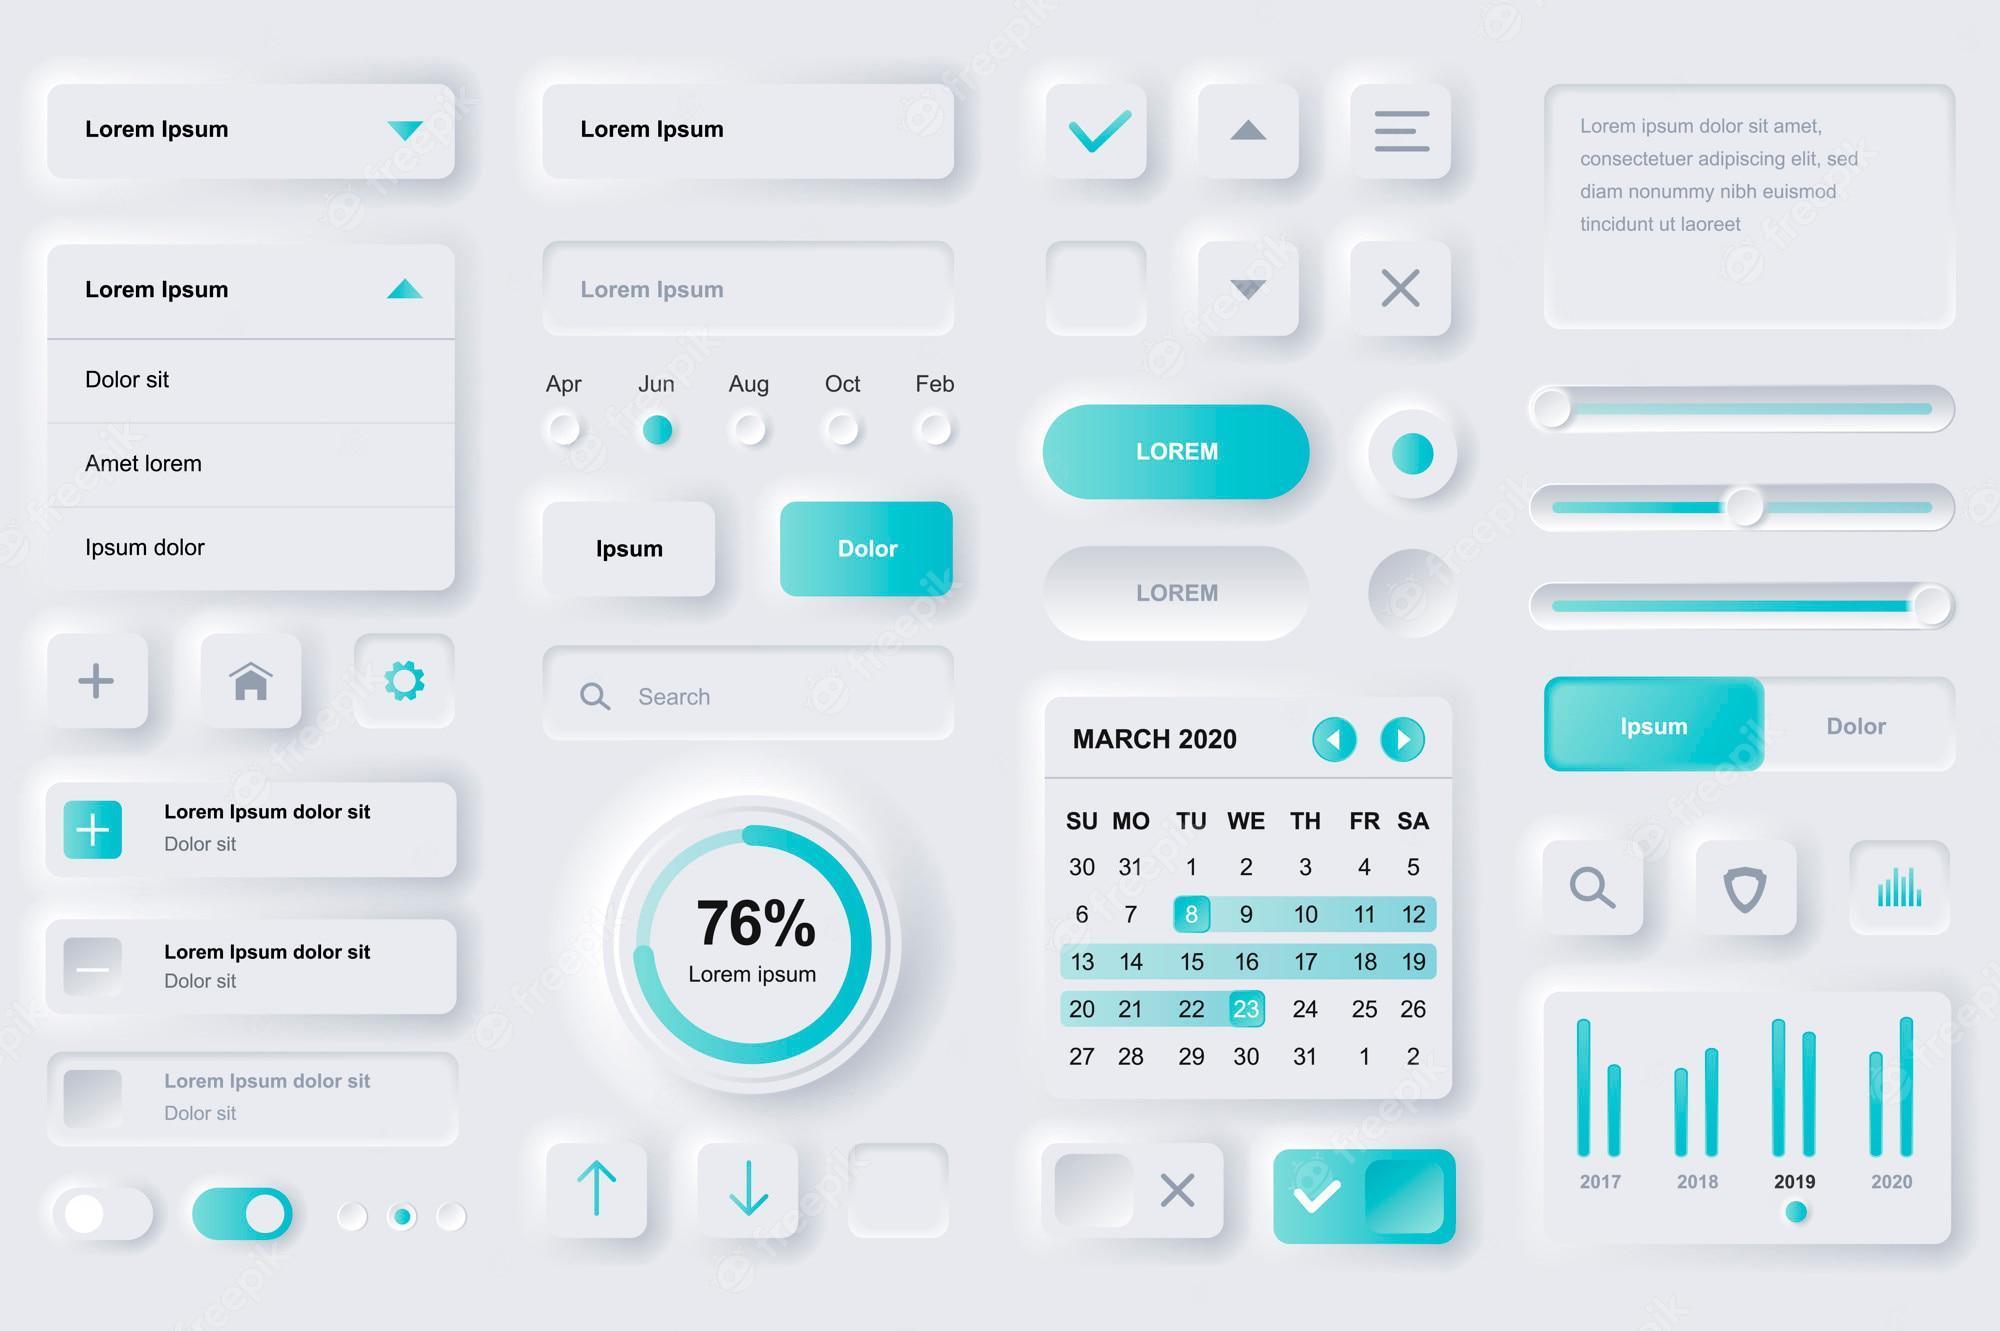button: (42, 775, 457, 882), (36, 917, 460, 1019), (49, 1052, 462, 1145), (1042, 398, 1308, 505), (1044, 545, 1310, 648), (687, 1132, 808, 1246), (344, 631, 457, 738), (1345, 85, 1457, 192), (1347, 241, 1458, 346), (545, 1138, 656, 1243), (45, 628, 157, 732), (1690, 838, 1801, 942), (195, 631, 304, 729), (1849, 836, 1951, 937), (1546, 839, 1644, 943), (1311, 712, 1362, 767), (1382, 712, 1424, 771)
checkbox: (1039, 76, 1155, 187), (1042, 236, 1151, 348)
dropdown: (39, 88, 459, 186), (50, 244, 457, 342)
icon: (1218, 108, 1272, 154), (1225, 269, 1272, 310)
input: (542, 645, 964, 749), (542, 85, 958, 178), (545, 244, 950, 330)
label: (729, 361, 778, 403), (539, 365, 586, 403), (912, 370, 961, 400), (635, 368, 682, 400), (820, 368, 867, 398)
radio: (1365, 545, 1467, 646), (1367, 409, 1464, 501), (333, 1194, 373, 1243), (820, 409, 867, 449), (545, 407, 584, 456), (638, 409, 682, 449), (728, 409, 771, 449), (385, 1196, 425, 1237), (432, 1196, 469, 1239), (916, 409, 955, 447)
slider: (1517, 475, 1960, 541), (1523, 376, 1964, 440), (1522, 576, 1960, 639)
switch: (1546, 671, 1958, 780), (1035, 1133, 1232, 1240), (1269, 1150, 1463, 1249), (42, 1179, 165, 1246), (192, 1184, 301, 1249)
